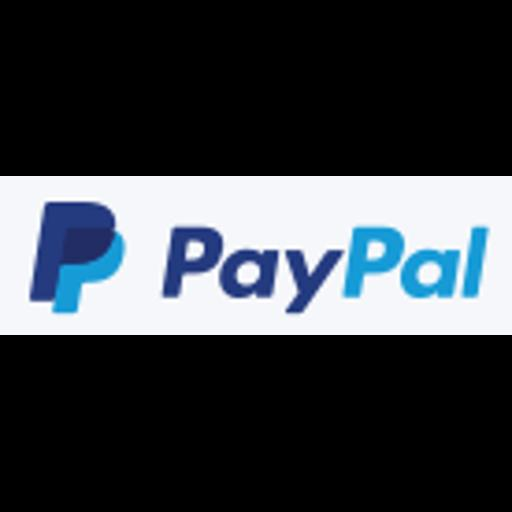PayPal: (0, 176, 512, 335)
